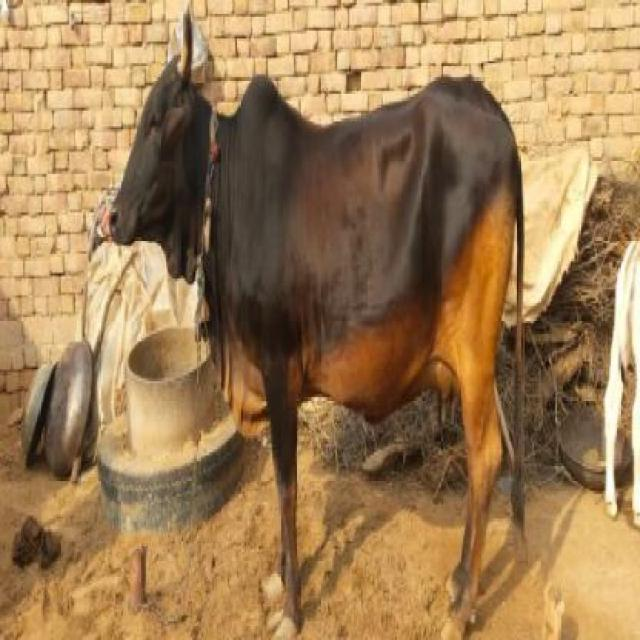Cow: (105, 11, 529, 637)
